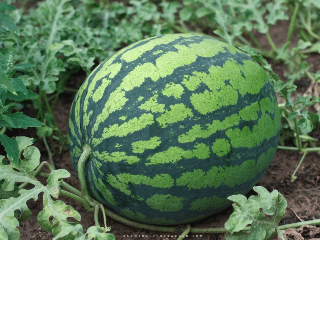dua_hau: (68, 31, 283, 217)
